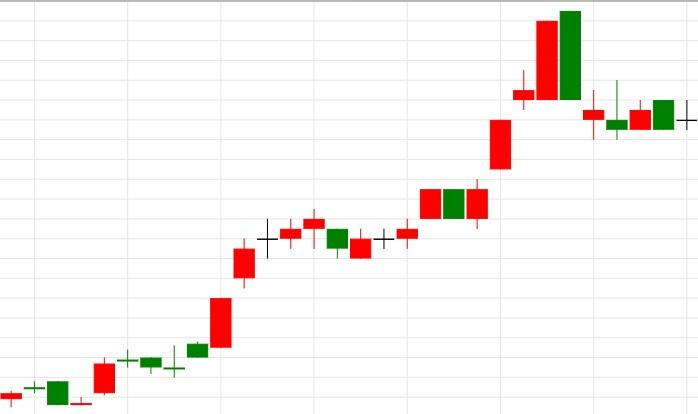bearish_engulfing_fall: (466, 10, 582, 230)
